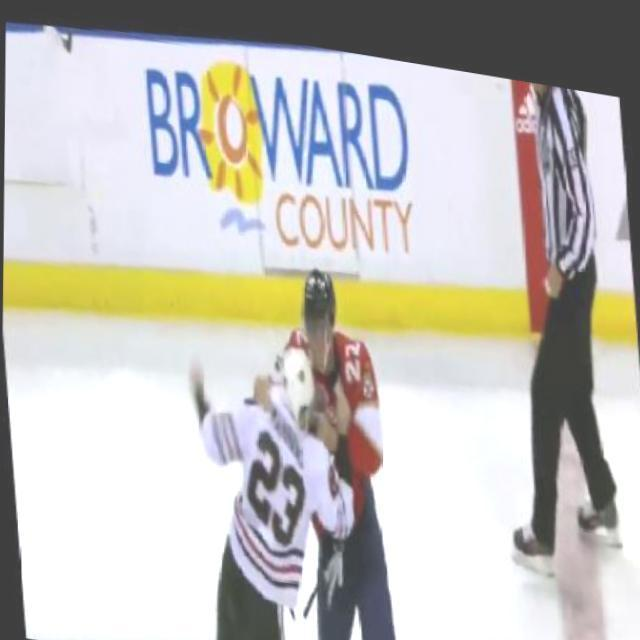fight: (171, 231, 413, 640)
